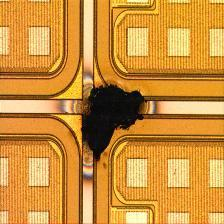PARTICLE: (52, 64, 164, 176)
